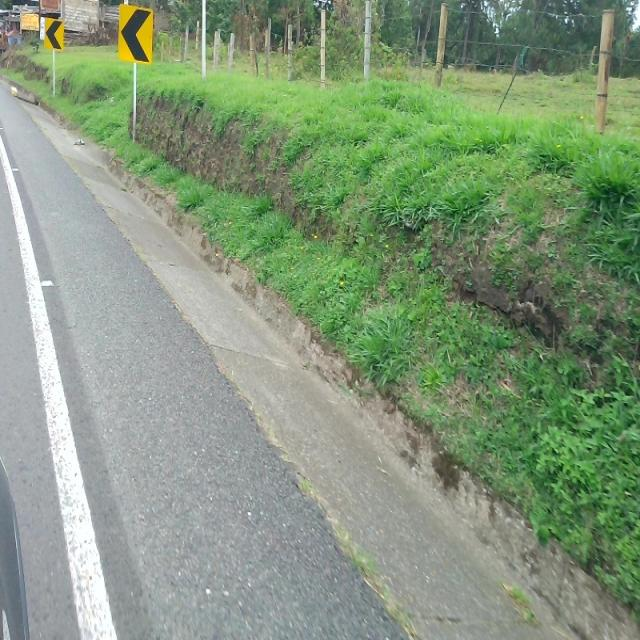DITCH: (3, 73, 637, 638)
